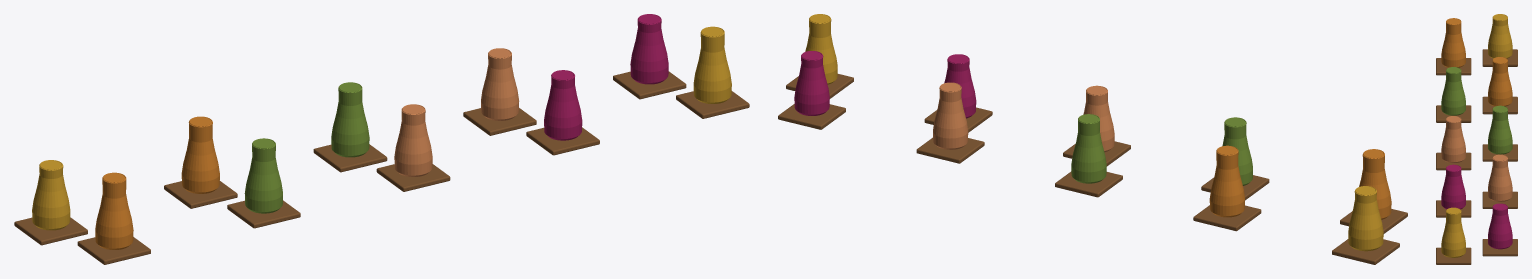
The model's file is juice.glb.
3 renders of one model, left to right at view 1: azimuth 30°, elevation 25°; view 2: azimuth 150°, elevation 25°; view 3: azimuth 270°, elevation 25°, orthographic. The views are drawn at different scales.
Visible parts, largest first — view 1: juice; view 2: juice; view 3: juice.
Boxes of the visible parts, box(x1,y1,x2,y2) form: juice: box(14, 14, 749, 264); juice: box(778, 14, 1407, 264); juice: box(1436, 14, 1517, 264).
Bounding box in the file's own units: 2.72 × 0.2796 × 0.4408.
